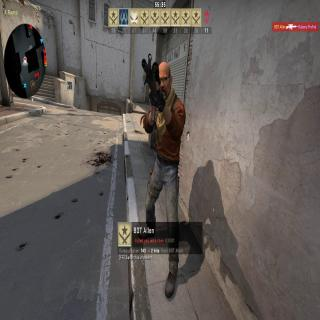T-Body: (139, 62, 188, 296)
T-Head: (156, 62, 173, 99)
